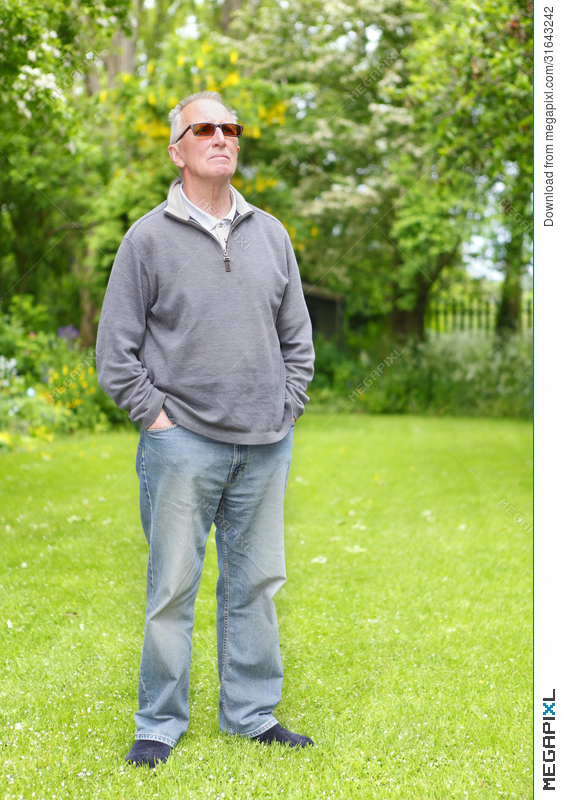person: (97, 101, 320, 767)
